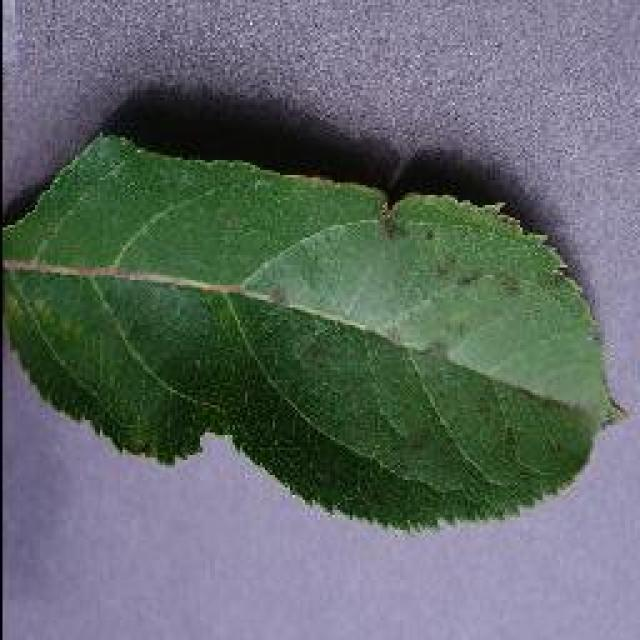apple scab disease: (0, 125, 625, 533)
